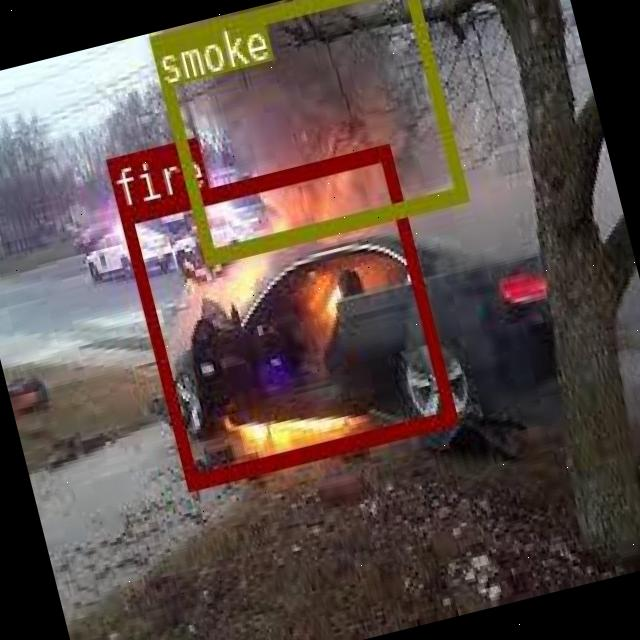fire: (116, 144, 454, 488)
smoke: (146, 0, 464, 261)
